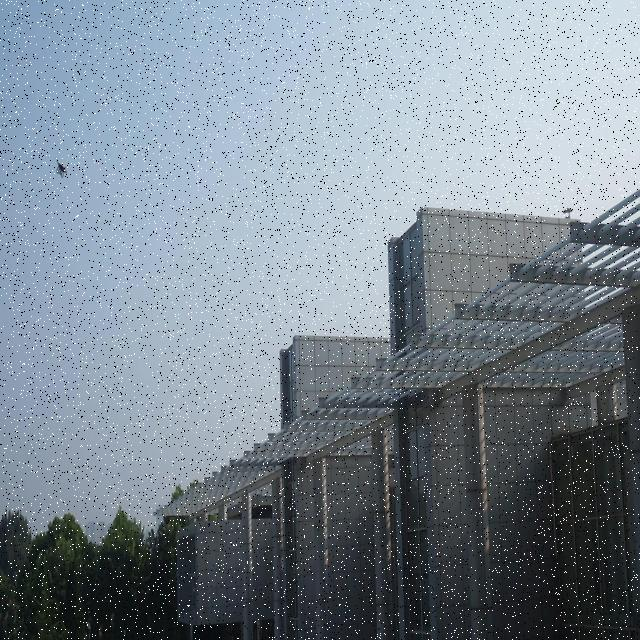UAV: (55, 156, 67, 178)
